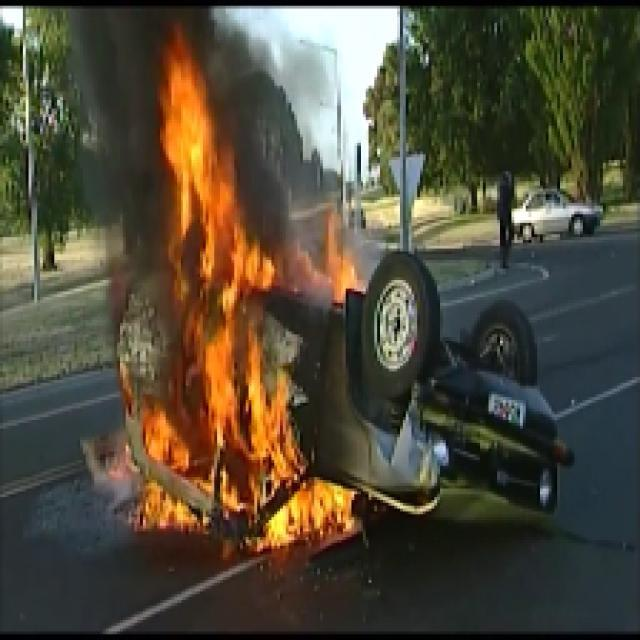Fire: (137, 39, 389, 572)
Smoke: (48, 8, 306, 280)
